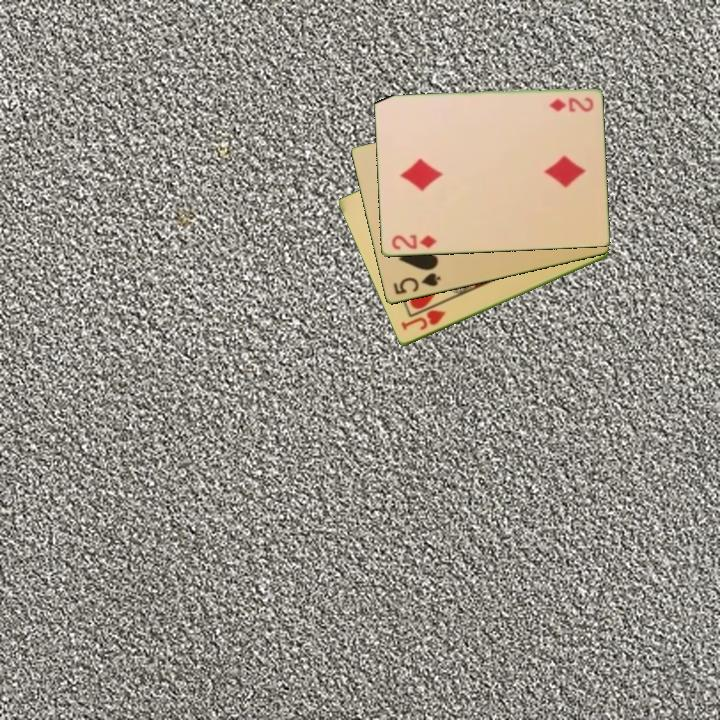2d: (388, 231, 440, 253), (545, 94, 596, 113)
5s: (390, 269, 443, 298)
Jh: (397, 307, 448, 333)
